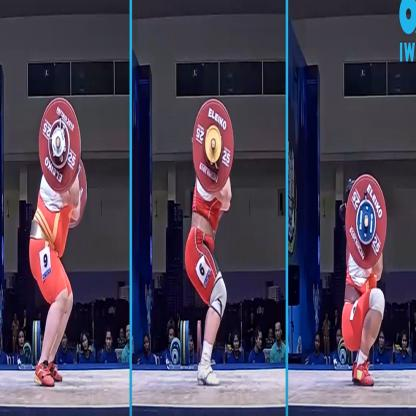Barbell: (30, 82, 86, 204), (186, 88, 238, 199), (337, 168, 391, 272)
